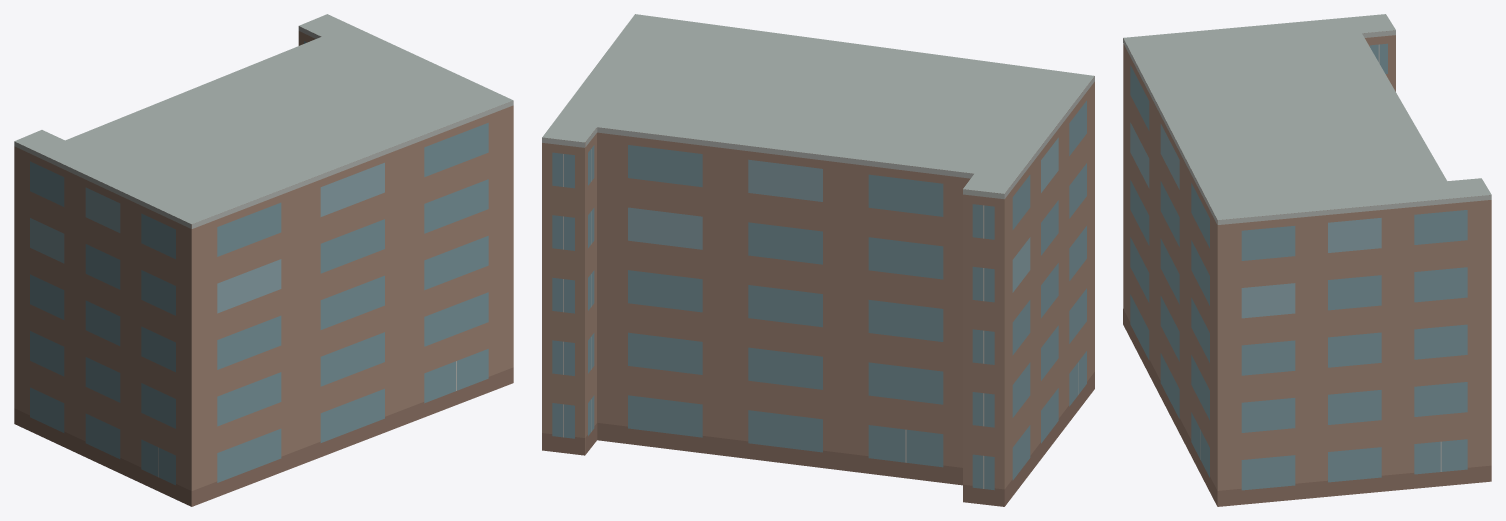
File: survey-upis-32697649.glb
3 renders of one model, left to right at view 1: azimuth 30°, elevation 25°; view 2: azimuth 150°, elevation 25°; view 3: azimuth 270°, elevation 25°, orthographic. The views are drawn at different scales.
Parts seen in each view (by area): view 1: survey-upis-32697649.tmp; view 2: survey-upis-32697649.tmp; view 3: survey-upis-32697649.tmp.
Boxes of the visible parts, x1,y1,x2,y2 form: survey-upis-32697649.tmp: [14, 14, 513, 506]; survey-upis-32697649.tmp: [542, 14, 1094, 506]; survey-upis-32697649.tmp: [1123, 14, 1491, 506].
Bounding box in the file's own units: 21.92 × 14.2 × 16.56.
